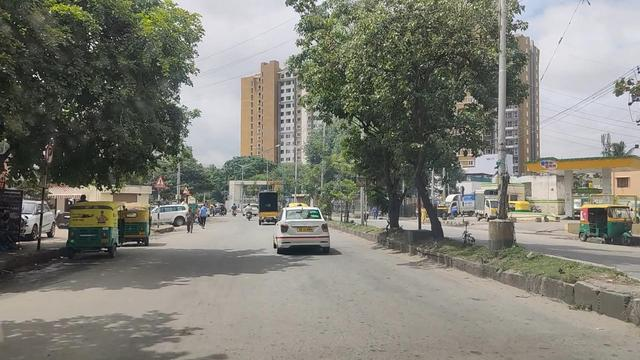LMV: (273, 207, 335, 258)
